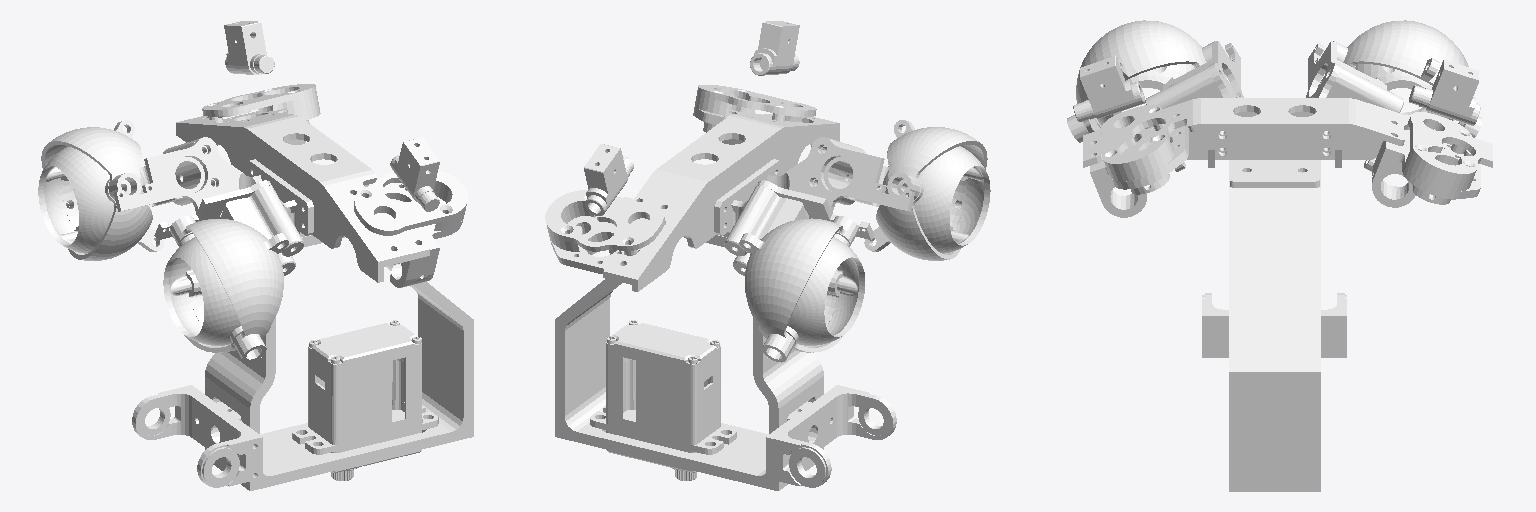
robot.urdf — robotic_cathead_v1:
<?xml version="1.0" encoding="utf-8"?>
<!-- This URDF was automatically created by SolidWorks to URDF Exporter! Originally created by Stephen Brawner (brawner@gmail.com) 
     Commit Version: 1.6.0-4-g7f85cfe  Build Version: 1.6.7995.38578
     For more information, please see http://wiki.ros.org/sw_urdf_exporter -->
<robot
  name="robotic_cathead_v1">
  <link
    name="base_link">
    <inertial>
      <origin
        xyz="-0.00583071434535275 -0.00435176277918871 -2.43647152217696E-07"
        rpy="0 0 0" />
      <mass
        value="0.00307935991801964" />
      <inertia
        ixx="7.2199632330752E-08"
        ixy="5.18956873550899E-10"
        ixz="9.75490902510647E-12"
        iyy="2.05565001774293E-07"
        iyz="-4.55303723532198E-12"
        izz="1.87046325696497E-07" />
    </inertial>
    <visual>
      <origin
        xyz="0 0 0"
        rpy="0 0 0" />
      <geometry>
        <mesh
          filename="package://robot_description/meshes/base_link.STL" />
      </geometry>
      <material
        name="">
        <color
          rgba="1 1 1 1" />
      </material>
    </visual>
    <collision>
      <origin
        xyz="0 0 0"
        rpy="0 0 0" />
      <geometry>
        <mesh
          filename="package://robot_description/meshes/base_link.STL" />
      </geometry>
    </collision>
  </link>
  <link
    name="neck_pitch">
    <inertial>
      <origin
        xyz="-1.11022302462516E-16 9.71445146547012E-17 0.00961207159240404"
        rpy="0 0 0" />
      <mass
        value="0.00162448495800369" />
      <inertia
        ixx="7.74530189114071E-08"
        ixy="1.40379375805878E-22"
        ixz="-5.52183401968485E-22"
        iyy="4.1352003251493E-07"
        iyz="-2.35420731109582E-22"
        izz="3.85212265346724E-07" />
    </inertial>
    <visual>
      <origin
        xyz="0 0 0"
        rpy="0 0 0" />
      <geometry>
        <mesh
          filename="package://robot_description/meshes/neck_pitch.STL" />
      </geometry>
      <material
        name="">
        <color
          rgba="1 1 1 1" />
      </material>
    </visual>
    <collision>
      <origin
        xyz="0 0 0"
        rpy="0 0 0" />
      <geometry>
        <mesh
          filename="package://robot_description/meshes/neck_pitch.STL" />
      </geometry>
    </collision>
  </link>
  <joint
    name="neck_pitch"
    type="revolute">
    <origin
      xyz="0 0 0"
      rpy="0 0 1.5708" />
    <parent
      link="base_link" />
    <child
      link="neck_pitch" />
    <axis
      xyz="-1 0 0" />
    <limit
      lower="-1.0"
      upper="0.6"
      effort="1"
      velocity="1.0" />
  </joint>
  <link
    name="main_body">
    <inertial>
      <origin
        xyz="0.0499508735532086 -0.000329453468483856 -0.0126568608895478"
        rpy="0 0 0" />
      <mass
        value="0.02737336908894" />
      <inertia
        ixx="6.80774664052455E-06"
        ixy="3.59670023840236E-09"
        ixz="6.3452006258955E-07"
        iyy="8.77608482033519E-06"
        iyz="1.51467652418461E-08"
        izz="6.40173972315336E-06" />
    </inertial>
    <visual>
      <origin
        xyz="0 0 0"
        rpy="0 0 0" />
      <geometry>
        <mesh
          filename="package://robot_description/meshes/main_body.STL" />
      </geometry>
      <material
        name="">
        <color
          rgba="1 1 1 1" />
      </material>
    </visual>
    <collision>
      <origin
        xyz="0 0 0"
        rpy="0 0 0" />
      <geometry>
        <mesh
          filename="package://robot_description/meshes/main_body.STL" />
      </geometry>
    </collision>
  </link>
  <joint
    name="main_body"
    type="revolute">
    <origin
      xyz="0 0 0.0146"
      rpy="1.5708 -1.5708 0" />
    <parent
      link="neck_pitch" />
    <child
      link="main_body" />
    <axis
      xyz="1 0 0" />
    <limit
      lower="-1"
      upper="1"
      effort="1"
      velocity="1.0" />
  </joint>
  <link
    name="left_ear">
    <inertial>
      <origin
        xyz="0.000726339256806124 0.00023293030804615 0.00367145001794884"
        rpy="0 0 0" />
      <mass
        value="0.00111686680174349" />
      <inertia
        ixx="4.58136169400815E-08"
        ixy="-3.5034272917479E-10"
        ixz="-5.07365643858759E-09"
        iyy="3.50028317275198E-08"
        iyz="-3.11269623862565E-10"
        izz="3.30685020761069E-08" />
    </inertial>
    <visual>
      <origin
        xyz="0 0 0"
        rpy="0 0 0" />
      <geometry>
        <mesh
          filename="package://robot_description/meshes/left_ear.STL" />
      </geometry>
      <material
        name="">
        <color
          rgba="1 1 1 1" />
      </material>
    </visual>
    <collision>
      <origin
        xyz="0 0 0"
        rpy="0 0 0" />
      <geometry>
        <mesh
          filename="package://robot_description/meshes/left_ear.STL" />
      </geometry>
    </collision>
  </link>
  <joint
    name="left_ear"
    type="revolute">
    <origin
      xyz="0.081064 -0.035877 -0.008008"
      rpy="0 0 -0.34907" />
    <parent
      link="main_body" />
    <child
      link="left_ear" />
    <axis
      xyz="-1 0 0" />
    <limit
      lower="-1.57"
      upper="1.57"
      effort="1"
      velocity="1.0" />
  </joint>
  <link
    name="left_ear_skull">
    <inertial>
      <origin
        xyz="0.000118564538537647 -4.49573447913743E-10 0.00283848188604254"
        rpy="0 0 0" />
      <mass
        value="0.000525893912553734" />
      <inertia
        ixx="6.37551369912807E-09"
        ixy="-1.88756334136368E-15"
        ixz="5.03535006831977E-10"
        iyy="1.09961013515188E-08"
        iyz="-5.94950880768032E-16"
        izz="6.68927627894814E-09" />
    </inertial>
    <visual>
      <origin
        xyz="0 0 0"
        rpy="0 0 0" />
      <geometry>
        <mesh
          filename="package://robot_description/meshes/left_ear_skull.STL" />
      </geometry>
      <material
        name="">
        <color
          rgba="1 1 1 1" />
      </material>
    </visual>
    <collision>
      <origin
        xyz="0 0 0"
        rpy="0 0 0" />
      <geometry>
        <mesh
          filename="package://robot_description/meshes/left_ear_skull.STL" />
      </geometry>
    </collision>
  </link>
  <joint
    name="left_ear_skull"
    type="revolute">
    <origin
      xyz="0.004 0 0.006"
      rpy="1.5708 0 1.5708" />
    <parent
      link="left_ear" />
    <child
      link="left_ear_skull" />
    <axis
      xyz="1 0 0" />
    <limit
      lower="-0.5"
      upper="1"
      effort="1"
      velocity="1.0" />
  </joint>
  <link
    name="right_ear">
    <inertial>
      <origin
        xyz="0.000726339256806128 0.000232930308046166 0.00367145001794884"
        rpy="0 0 0" />
      <mass
        value="0.00111686680174349" />
      <inertia
        ixx="4.58136169400814E-08"
        ixy="-3.50342729174851E-10"
        ixz="-5.07365643858759E-09"
        iyy="3.50028317275197E-08"
        iyz="-3.11269623862557E-10"
        izz="3.30685020761068E-08" />
    </inertial>
    <visual>
      <origin
        xyz="0 0 0"
        rpy="0 0 0" />
      <geometry>
        <mesh
          filename="package://robot_description/meshes/right_ear.STL" />
      </geometry>
      <material
        name="">
        <color
          rgba="1 1 1 1" />
      </material>
    </visual>
    <collision>
      <origin
        xyz="0 0 0"
        rpy="0 0 0" />
      <geometry>
        <mesh
          filename="package://robot_description/meshes/right_ear.STL" />
      </geometry>
    </collision>
  </link>
  <joint
    name="right_ear"
    type="continuous">
    <origin
      xyz="0.081748 0.033996 -0.008008"
      rpy="0 0 0.34907" />
    <parent
      link="main_body" />
    <child
      link="right_ear" />
    <axis
      xyz="-1 0 0" />
    <limit
      lower="-1.57"
      upper="1.57"
      effort="1"
      velocity="1.0" />
  </joint>
  <link
    name="right_ear_skull">
    <inertial>
      <origin
        xyz="0.000118566647252969 6.59680907122429E-10 0.00283848107895002"
        rpy="0 0 0" />
      <mass
        value="0.000525893591413224" />
      <inertia
        ixx="6.37551294455812E-09"
        ixy="-1.90548703257722E-15"
        ixz="5.03532831464774E-10"
        iyy="1.09961006112175E-08"
        iyz="-1.89407790184831E-15"
        izz="6.68927660757344E-09" />
    </inertial>
    <visual>
      <origin
        xyz="0 0 0"
        rpy="0 0 0" />
      <geometry>
        <mesh
          filename="package://robot_description/meshes/right_ear_skull.STL" />
      </geometry>
      <material
        name="">
        <color
          rgba="1 1 1 1" />
      </material>
    </visual>
    <collision>
      <origin
        xyz="0 0 0"
        rpy="0 0 0" />
      <geometry>
        <mesh
          filename="package://robot_description/meshes/right_ear_skull.STL" />
      </geometry>
    </collision>
  </link>
  <joint
    name="right_ear_skull"
    type="revolute">
    <origin
      xyz="0.004 0 0.006"
      rpy="1.5708 0 1.5708" />
    <parent
      link="right_ear" />
    <child
      link="right_ear_skull" />
    <axis
      xyz="1 0 0" />
    <limit
      lower="-0.5"
      upper="1"
      effort="1"
      velocity="1.0" />
  </joint>
  <link
    name="left_eye_skin_bottom">
    <inertial>
      <origin
        xyz="1.65285402045634E-07 0.00262775722349007 -0.00839369818006901"
        rpy="0 0 0" />
      <mass
        value="0.000611042891584848" />
      <inertia
        ixx="2.27177038707027E-08"
        ixy="7.35856349328015E-14"
        ixz="-8.22301047236207E-13"
        iyy="5.56021383249572E-08"
        iyz="1.27428123251825E-09"
        izz="5.54723168345058E-08" />
    </inertial>
    <visual>
      <origin
        xyz="0 0 0"
        rpy="0 0 0" />
      <geometry>
        <mesh
          filename="package://robot_description/meshes/left_eye_skin_bottom.STL" />
      </geometry>
      <material
        name="">
        <color
          rgba="1 1 1 1" />
      </material>
    </visual>
    <collision>
      <origin
        xyz="0 0 0"
        rpy="0 0 0" />
      <geometry>
        <mesh
          filename="package://robot_description/meshes/left_eye_skin_bottom.STL" />
      </geometry>
    </collision>
  </link>
  <joint
    name="left_eye_skin_bottom"
    type="revolute">
    <origin
      xyz="0.066821 -0.027501 -0.047458"
      rpy="1.5708 0 1.0472" />
    <parent
      link="main_body" />
    <child
      link="left_eye_skin_bottom" />
    <axis
      xyz="-1 0 0" />
    <limit
      lower="-1.57"
      upper="1"
      effort="1"
      velocity="1.0" />
  </joint>
  <link
    name="left_eye_skin_top">
    <inertial>
      <origin
        xyz="-3.22903662426655E-07 0.00232405642423272 0.00834470418303585"
        rpy="0 0 0" />
      <mass
        value="0.000803000601768909" />
      <inertia
        ixx="3.80724997730527E-08"
        ixy="-3.01828864271272E-14"
        ixz="-2.03149192719275E-12"
        iyy="1.13592790005564E-07"
        iyz="-2.62791318634404E-09"
        izz="1.06122508364222E-07" />
    </inertial>
    <visual>
      <origin
        xyz="0 0 0"
        rpy="0 0 0" />
      <geometry>
        <mesh
          filename="package://robot_description/meshes/left_eye_skin_top.STL" />
      </geometry>
      <material
        name="">
        <color
          rgba="1 1 1 1" />
      </material>
    </visual>
    <collision>
      <origin
        xyz="0 0 0"
        rpy="0 0 0" />
      <geometry>
        <mesh
          filename="package://robot_description/meshes/left_eye_skin_top.STL" />
      </geometry>
    </collision>
  </link>
  <joint
    name="left_eye_skin_top"
    type="revolute">
    <origin
      xyz="0.066821 -0.027501 -0.047458"
      rpy="1.5708 0 1.0472" />
    <parent
      link="main_body" />
    <child
      link="left_eye_skin_top" />
    <axis
      xyz="-1 0 0" />
    <limit
      lower="-1"
      upper="1.57"
      effort="1"
      velocity="1.0" />
  </joint>
  <link
    name="right_eye_skin_bottom">
    <inertial>
      <origin
        xyz="1.41858437835082E-07 0.00262775781406757 -0.00839371366590686"
        rpy="0 0 0" />
      <mass
        value="0.000611041684526218" />
      <inertia
        ixx="2.27176214310911E-08"
        ixy="5.79826771307563E-14"
        ixz="-6.90533344595214E-13"
        iyy="5.56020092576724E-08"
        iyz="1.27427436514679E-09"
        izz="5.54722606942309E-08" />
    </inertial>
    <visual>
      <origin
        xyz="0 0 0"
        rpy="0 0 0" />
      <geometry>
        <mesh
          filename="package://robot_description/meshes/right_eye_skin_bottom.STL" />
      </geometry>
      <material
        name="">
        <color
          rgba="1 1 1 1" />
      </material>
    </visual>
    <collision>
      <origin
        xyz="0 0 0"
        rpy="0 0 0" />
      <geometry>
        <mesh
          filename="package://robot_description/meshes/right_eye_skin_bottom.STL" />
      </geometry>
    </collision>
  </link>
  <joint
    name="right_eye_skin_bottom"
    type="revolute">
    <origin
      xyz="0.066821 0.027499 -0.047458"
      rpy="1.5708 0 2.0944" />
    <parent
      link="main_body" />
    <child
      link="right_eye_skin_bottom" />
    <axis
      xyz="-1 0 0" />
    <limit
      lower="-1.57"
      upper="1"
      effort="1"
      velocity="1.0" />
  </joint>
  <link
    name="right_eye_skin_top">
    <inertial>
      <origin
        xyz="-3.27437229125788E-07 0.00232405615399228 0.0083447315895874"
        rpy="0 0 0" />
      <mass
        value="0.000802997746798666" />
      <inertia
        ixx="3.8072317594333E-08"
        ixy="-1.7794636334765E-14"
        ixz="-2.04880277005214E-12"
        iyy="1.1359243209057E-07"
        iyz="-2.62790864814491E-09"
        izz="1.06122318488797E-07" />
    </inertial>
    <visual>
      <origin
        xyz="0 0 0"
        rpy="0 0 0" />
      <geometry>
        <mesh
          filename="package://robot_description/meshes/right_eye_skin_top.STL" />
      </geometry>
      <material
        name="">
        <color
          rgba="1 1 1 1" />
      </material>
    </visual>
    <collision>
      <origin
        xyz="0 0 0"
        rpy="0 0 0" />
      <geometry>
        <mesh
          filename="package://robot_description/meshes/right_eye_skin_top.STL" />
      </geometry>
    </collision>
  </link>
  <joint
    name="right_eye_skin_top"
    type="revolute">
    <origin
      xyz="0.066821 0.027499 -0.047458"
      rpy="1.5708 0 2.0944" />
    <parent
      link="main_body" />
    <child
      link="right_eye_skin_top" />
    <axis
      xyz="-1 0 0" />
    <limit
      lower="-1"
      upper="1.57"
      effort="1"
      velocity="1.0" />
  </joint>
  <link
    name="jaw">
    <inertial>
      <origin
        xyz="-9.9194628080862E-05 -0.00857697903273844 -0.00736092813114736"
        rpy="0 0 0" />
      <mass
        value="0.00237770001292972" />
      <inertia
        ixx="1.85161433181941E-07"
        ixy="2.02292397701682E-09"
        ixz="1.73611220836106E-09"
        iyy="1.62476091706197E-07"
        iyz="-2.28994986466042E-08"
        izz="3.10006771477262E-07" />
    </inertial>
    <visual>
      <origin
        xyz="0 0 0"
        rpy="0 0 0" />
      <geometry>
        <mesh
          filename="package://robot_description/meshes/jaw.STL" />
      </geometry>
      <material
        name="">
        <color
          rgba="1 1 1 1" />
      </material>
    </visual>
    <collision>
      <origin
        xyz="0 0 0"
        rpy="0 0 0" />
      <geometry>
        <mesh
          filename="package://robot_description/meshes/jaw.STL" />
      </geometry>
    </collision>
  </link>
  <joint
    name="jaw"
    type="revolute">
    <origin
      xyz="0.0169 0 -0.039708"
      rpy="1.5708 0 1.5708" />
    <parent
      link="main_body" />
    <child
      link="jaw" />
    <axis
      xyz="1 0 0" />
    <limit
      lower="-0.5"
      upper="0.5"
      effort="1"
      velocity="1.0" />
  </joint>

  <mujoco>
      <actuator>
        <!-- 每个可动关节一个 position 执行器 -->
        <position joint="jaw"   kp="50" kv="5" ctrllimited="true" ctrlrange="-0.5 0.5"/>
        <position joint="right_eye_skin_bottom"   kp="50" kv="5" ctrllimited="true" ctrlrange="0 1"/>
        <position joint="right_eye_skin_top"   kp="50" kv="5" ctrllimited="true" ctrlrange="-1 0"/>
        <position joint="left_eye_skin_bottom"   kp="50" kv="5" ctrllimited="true" ctrlrange="0 1"/>
        <position joint="left_eye_skin_top"   kp="50" kv="5" ctrllimited="true" ctrlrange="-1 0"/>
        <position joint="neck_pitch"   kp="50" kv="5" ctrllimited="true" ctrlrange="-1 0.6"/>
        <position joint="main_body"   kp="50" kv="5" ctrllimited="true" ctrlrange="-1 1"/>
        <position joint="left_ear"   kp="50" kv="5" ctrllimited="true" ctrlrange="-1.57 1.57"/>
        <position joint="right_ear"   kp="50" kv="5" ctrllimited="true" ctrlrange="-1.57 1.57"/>
        <position joint="left_ear_skull"   kp="50" kv="5" ctrllimited="true" ctrlrange="-0.5 1"/>
        <position joint="right_ear"   kp="50" kv="5" ctrllimited="true" ctrlrange="-0.5 1"/>
      </actuator>
    </mujoco>
</robot>

--- Render facts (derived) ---
The picture shows the robot from 3 angles, left to right: view 1: azimuth 30°, elevation 25°; view 2: azimuth 150°, elevation 25°; view 3: azimuth 270°, elevation 25°; orthographic projection.
Model robotic_cathead_v1 with 12 links and 11 joints (10 revolute, 1 continuous), rooted at base_link, posed every joint at zero.
Links seen in each view (by area): view 1: main_body, right_eye_skin_top, left_eye_skin_top, left_eye_skin_bottom, right_ear_skull, left_ear_skull; view 2: main_body, left_eye_skin_top, right_eye_skin_top, right_eye_skin_bottom, left_ear_skull, right_ear_skull; view 3: main_body, right_eye_skin_top, left_eye_skin_top, right_ear_skull, left_ear_skull.
Link boxes in pixels (bbox=[...]): main_body: bbox=[38, 84, 473, 490]; right_eye_skin_top: bbox=[170, 216, 288, 362]; left_eye_skin_top: bbox=[41, 120, 141, 207]; left_eye_skin_bottom: bbox=[67, 179, 163, 260]; right_ear_skull: bbox=[390, 137, 439, 211]; left_ear_skull: bbox=[224, 21, 274, 74]; main_body: bbox=[545, 85, 990, 490]; left_eye_skin_top: bbox=[739, 216, 858, 362]; right_eye_skin_top: bbox=[887, 120, 987, 207]; right_eye_skin_bottom: bbox=[864, 178, 961, 260]; left_ear_skull: bbox=[584, 144, 633, 215]; right_ear_skull: bbox=[750, 21, 799, 75]; main_body: bbox=[1083, 40, 1492, 491]; right_eye_skin_top: bbox=[1067, 20, 1215, 142]; left_eye_skin_top: bbox=[1333, 20, 1482, 137]; right_ear_skull: bbox=[1073, 56, 1144, 121]; left_ear_skull: bbox=[1409, 59, 1480, 125].
Bounding box of the posed robot: 0.0837 × 0.0923 × 0.0964 m (x, y, z).
Meshes: 12 distinct files referenced, 7 mesh visuals loaded (7 binary STL); not drawn: 5 (reference not matched to a file when rendering).
